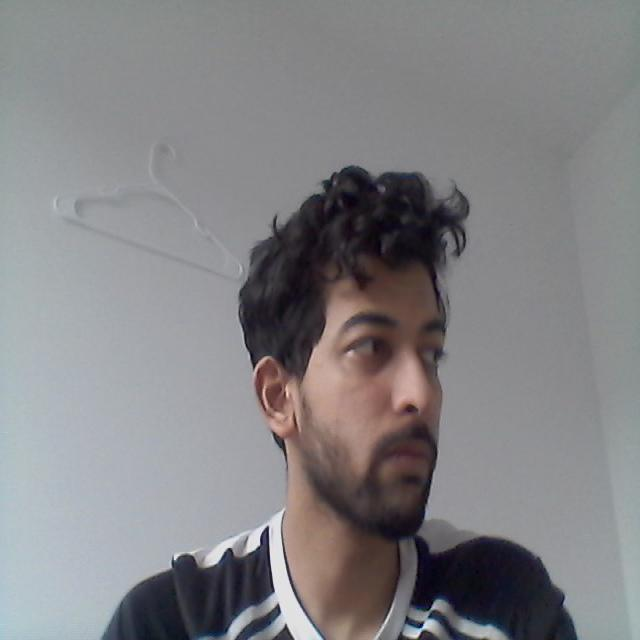nocap: (195, 157, 494, 371)
